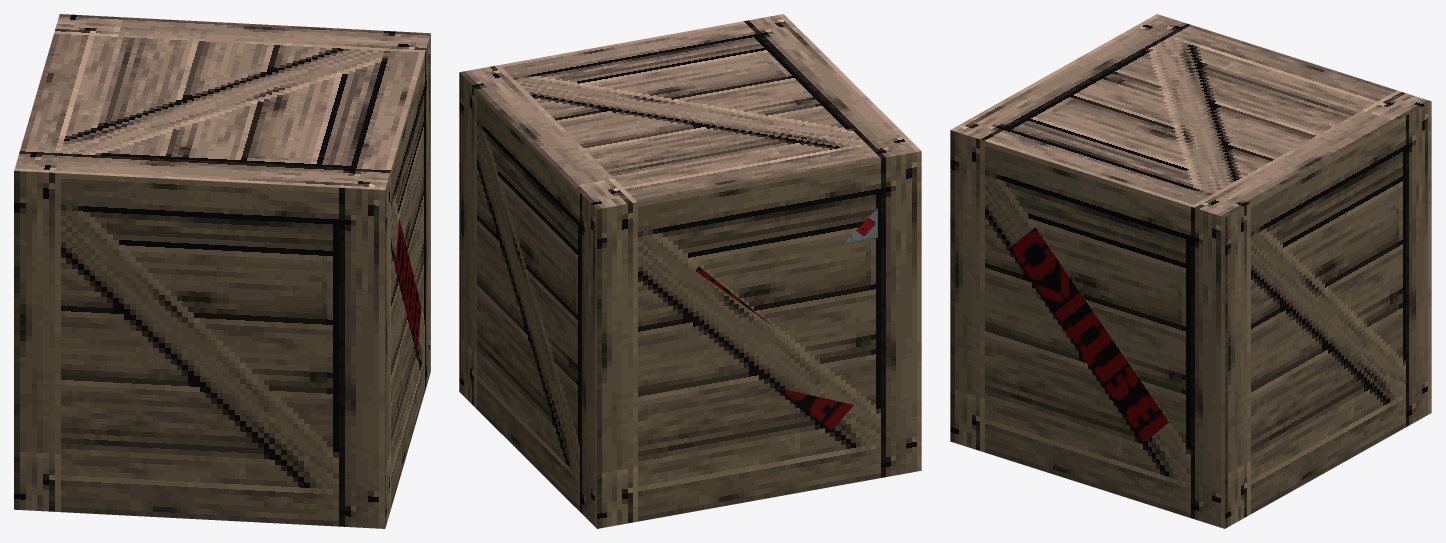
File: primary_045.glb
3 views of the same model, side by side, from view 1: azimuth 30°, elevation 25°; view 2: azimuth 150°, elevation 25°; view 3: azimuth 270°, elevation 25° (orthographic). The views are drawn at different scales.
Parts seen in each view (by area): view 1: Object; view 2: Object; view 3: Object.
Boxes of the visible parts, x1=… form: Object: x1=14, y1=14, x2=430, y2=528; Object: x1=459, y1=14, x2=921, y2=528; Object: x1=950, y1=14, x2=1431, y2=528.
Size of the model in its own units: 1.33 by 0.9501 by 1.33.
7 materials, 7 textured.
